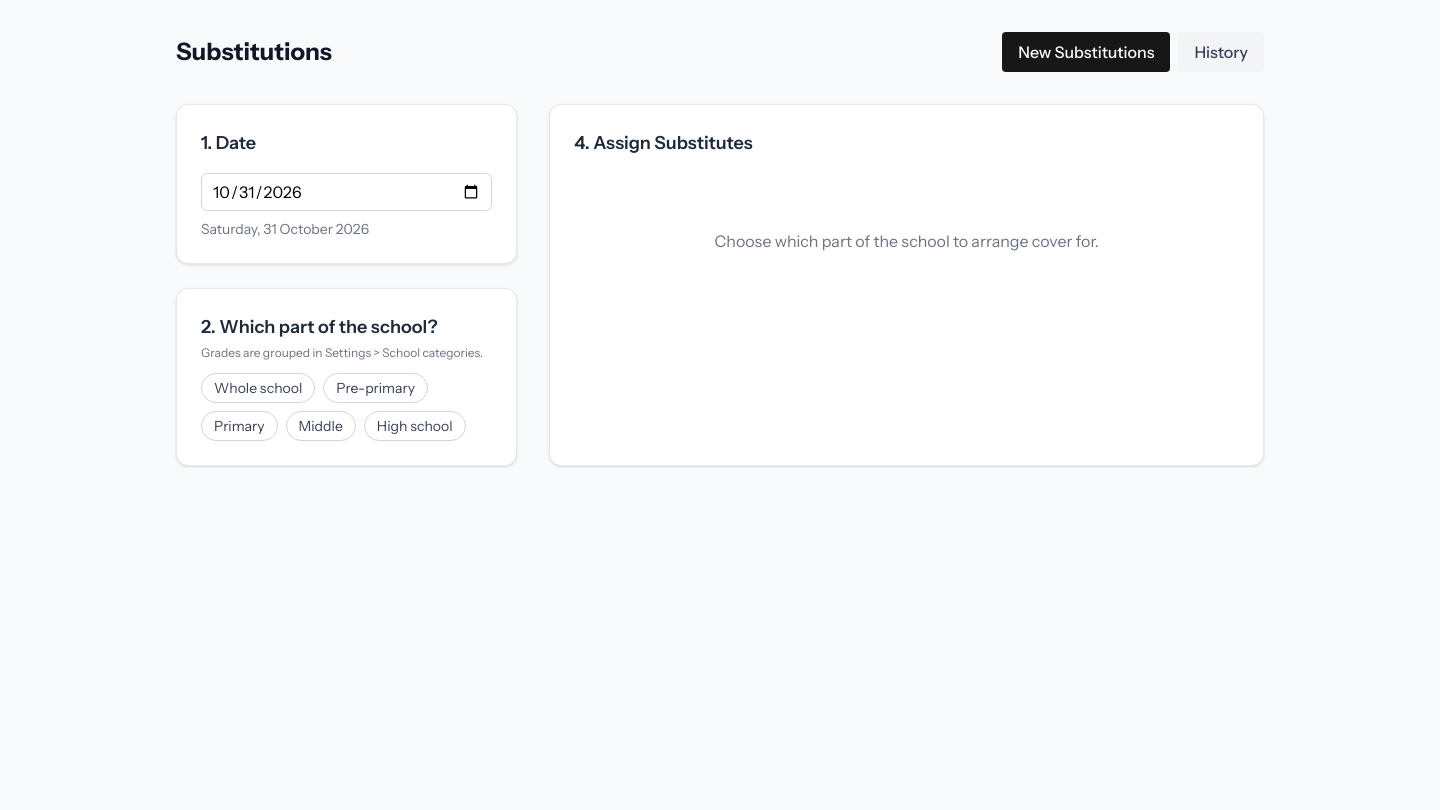
suggested substitutes › from the same part of the school first, then the rest
Type "2026-10-26" into the date field named "Date". click: (347, 192)
box: [201,173,492,211]
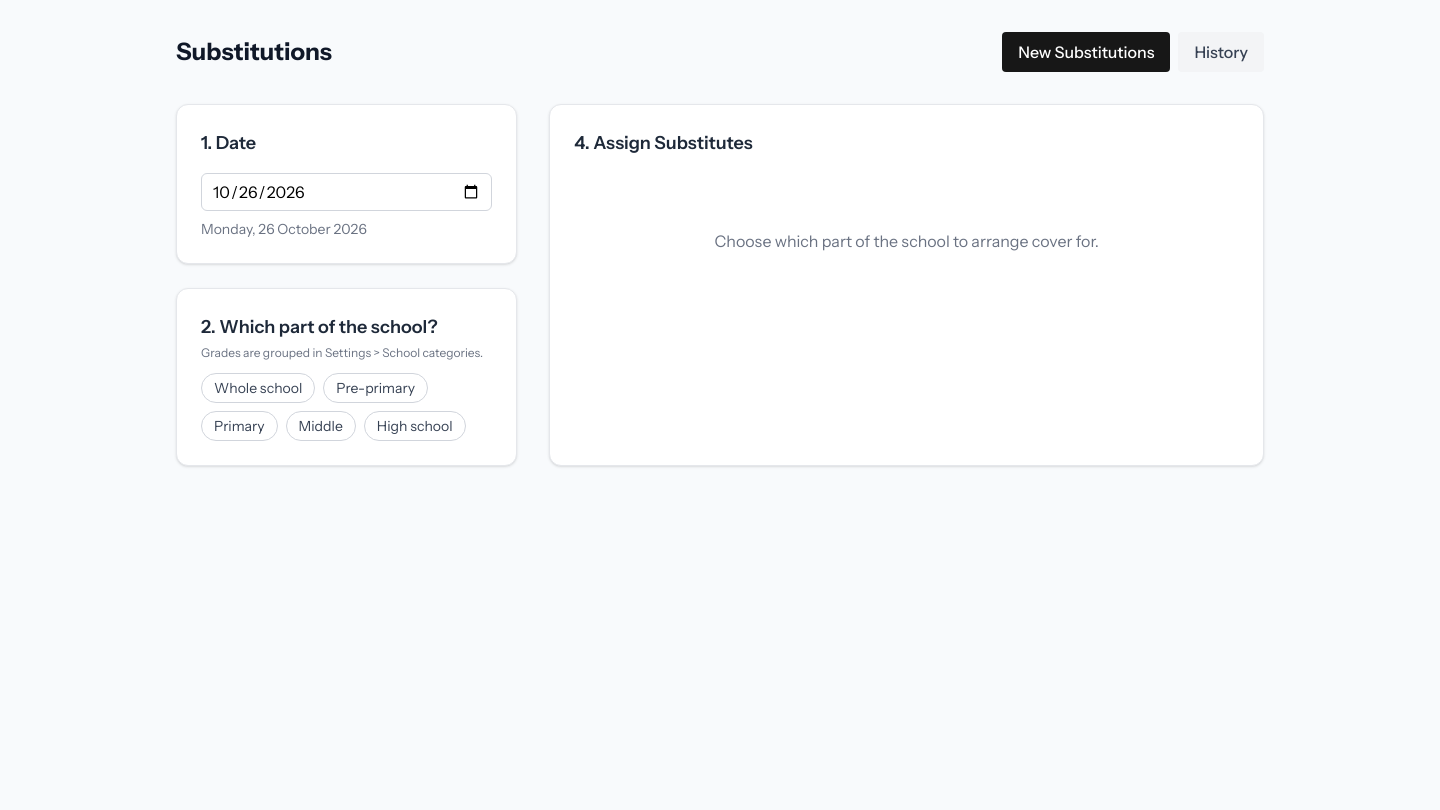
Click the radio button labelled "Primary". click: (239, 426)
box: [201,411,278,441]
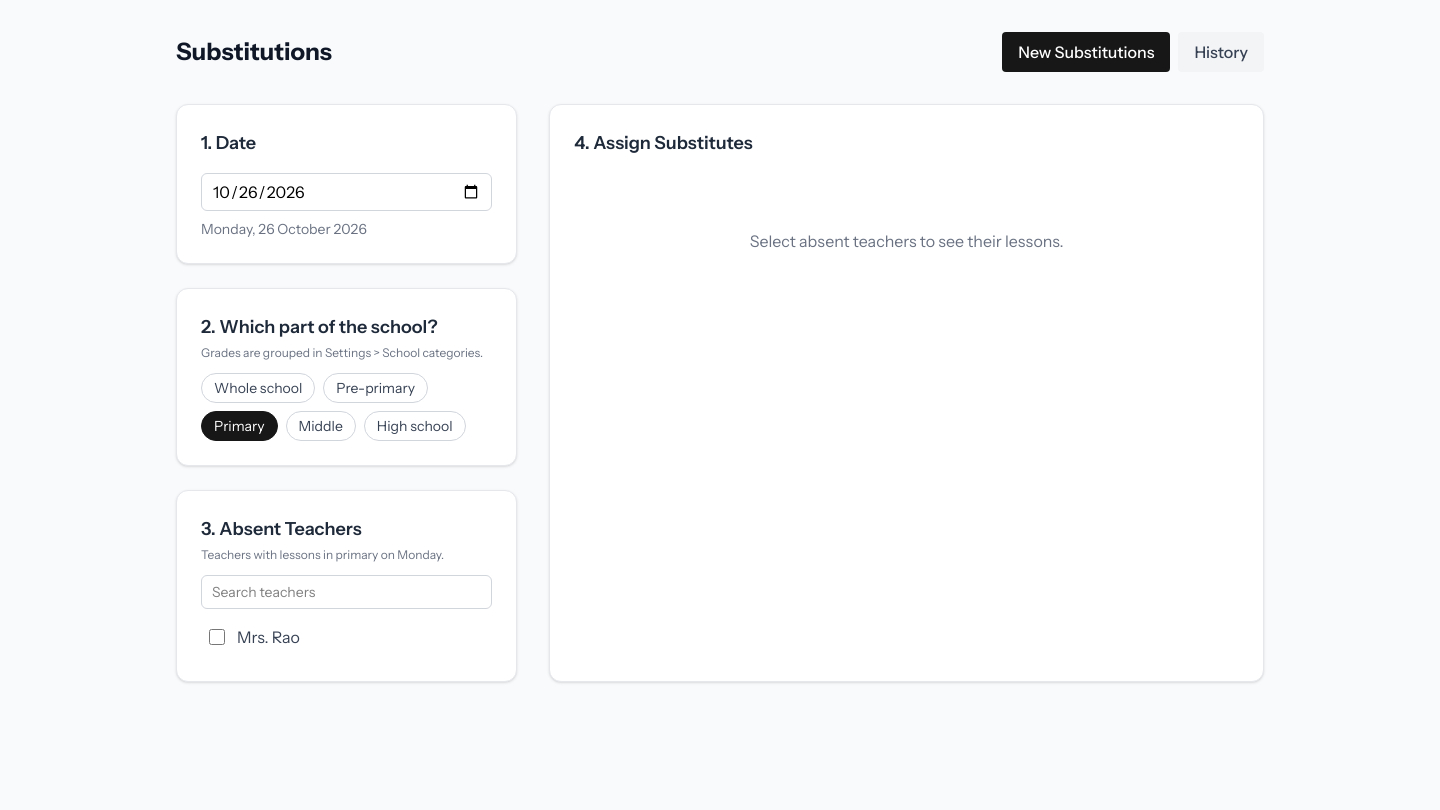
Click the checkbox labelled "Mrs. Rao". click: (217, 637)
box: [209,629,225,645]
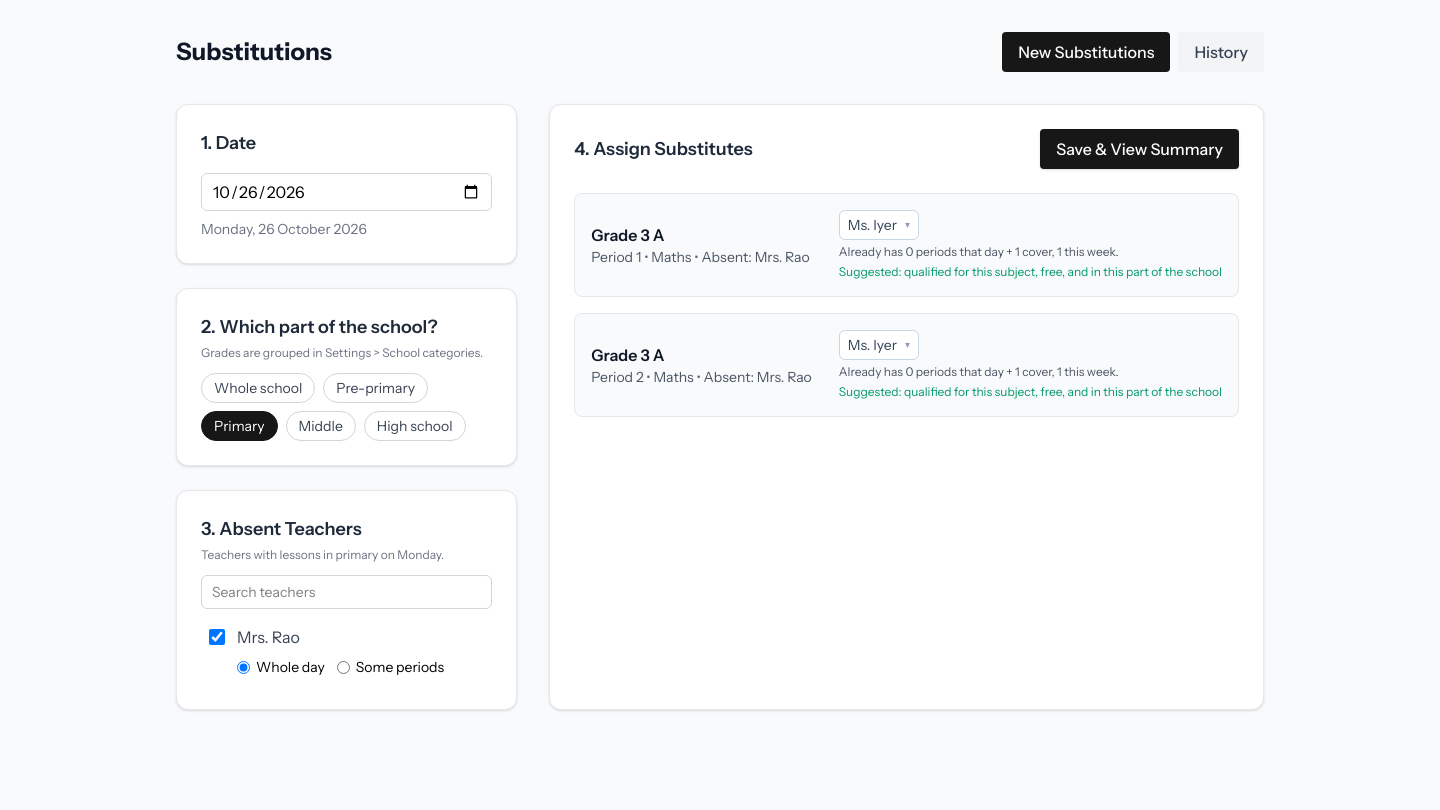
Click the radio button labelled "Some periods". click: (343, 667)
box: [337,660,350,674]
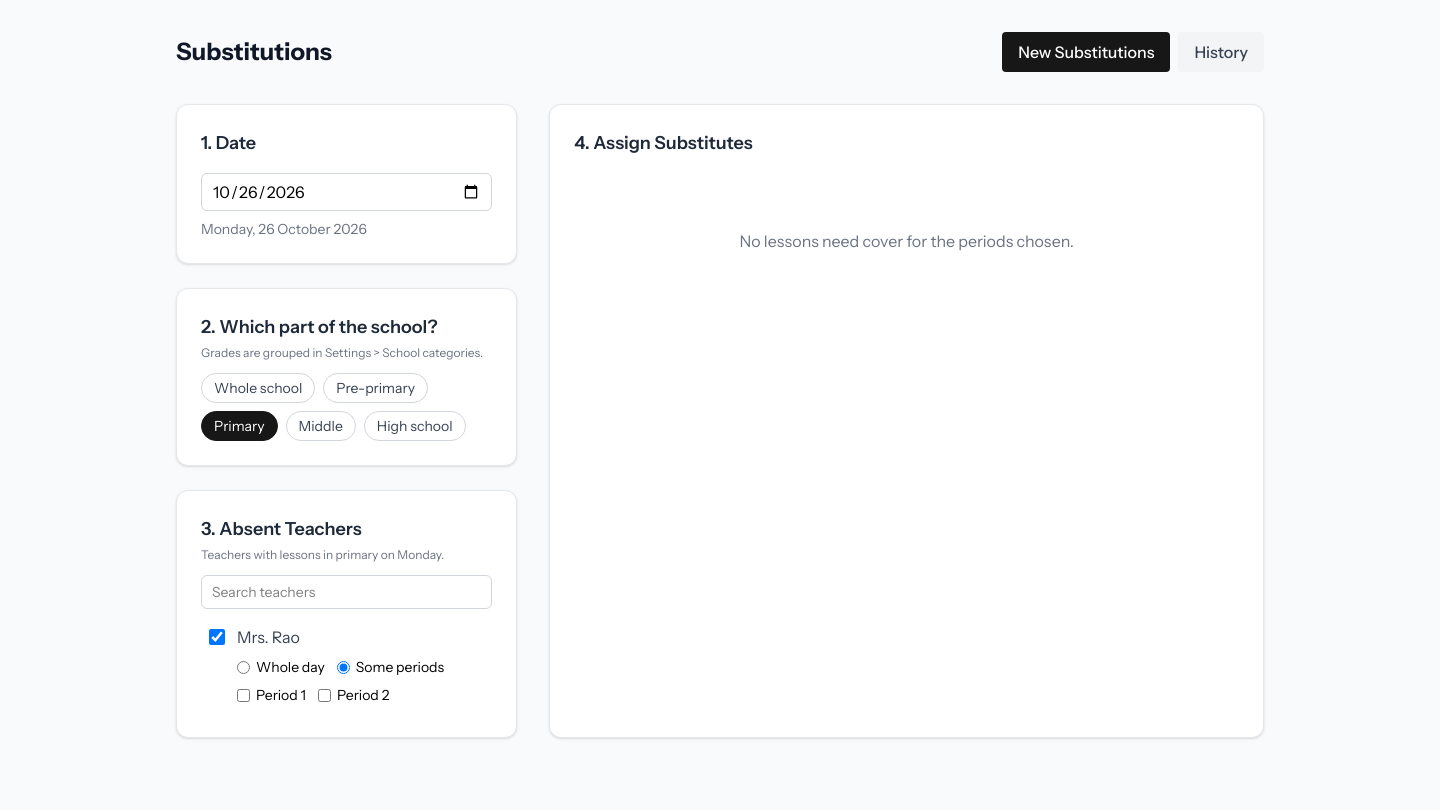
Click the checkbox named "Mrs. Rao away Period 1". click: (244, 695)
box: [237,688,250,702]
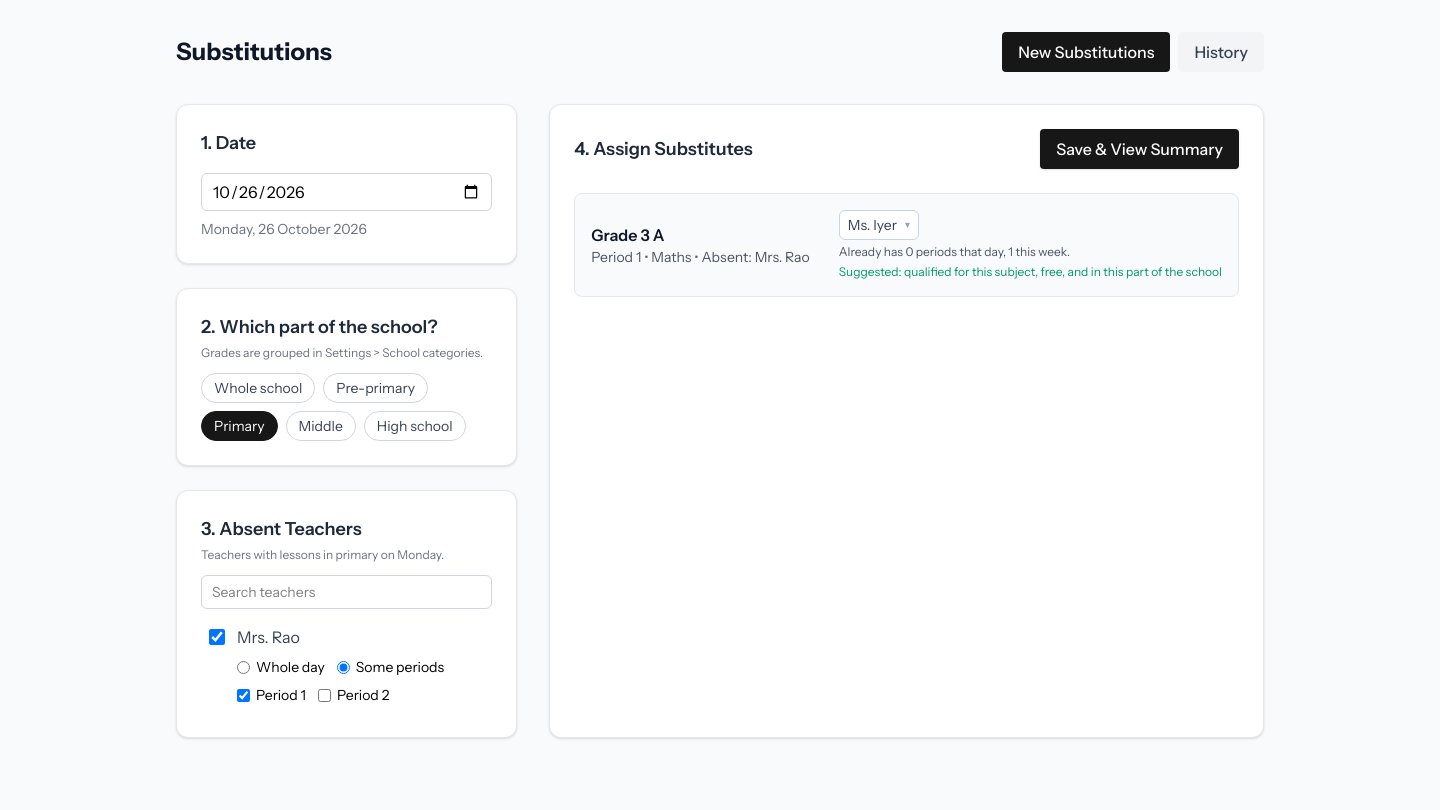
Click the dropdown named "Substitute for Maths, Period 1, Grade 3 A". click: (879, 225)
box: [839,210,919,240]
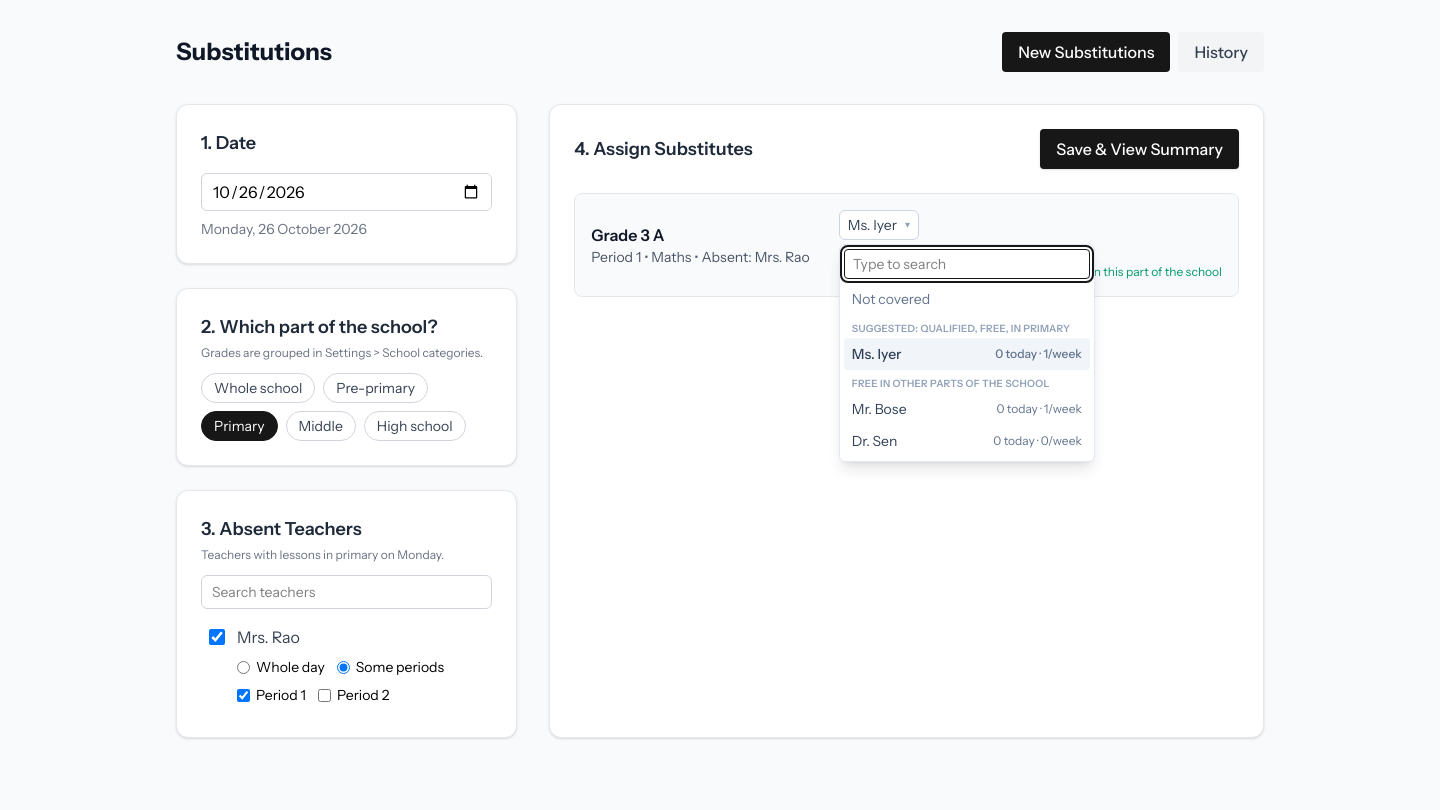
Expected: the text "Suggested: qualified, free, in Primary" is shown, [852,322,1070,335]
Expected: the text "Free in other parts of the school" is shown, [852,377,1050,390]
